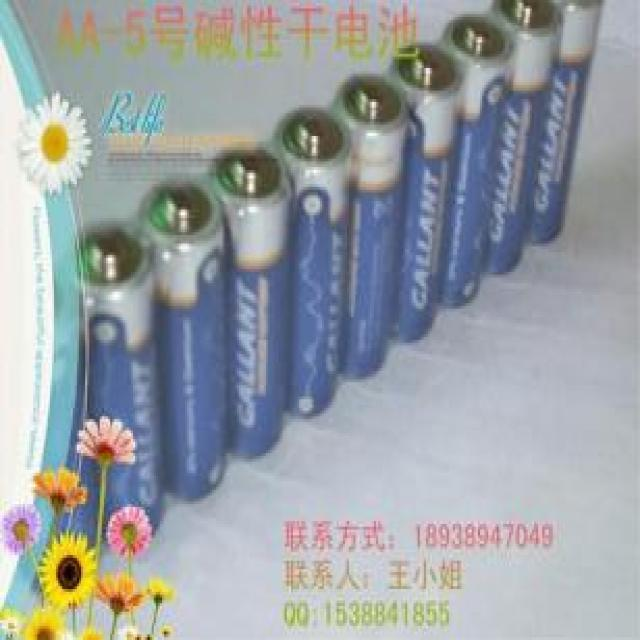hazardous waste: (68, 232, 164, 578), (228, 112, 292, 466), (291, 78, 347, 418), (346, 48, 400, 380), (166, 160, 217, 509), (401, 21, 452, 352), (452, 0, 500, 299), (546, 0, 587, 252), (496, 0, 534, 264)
